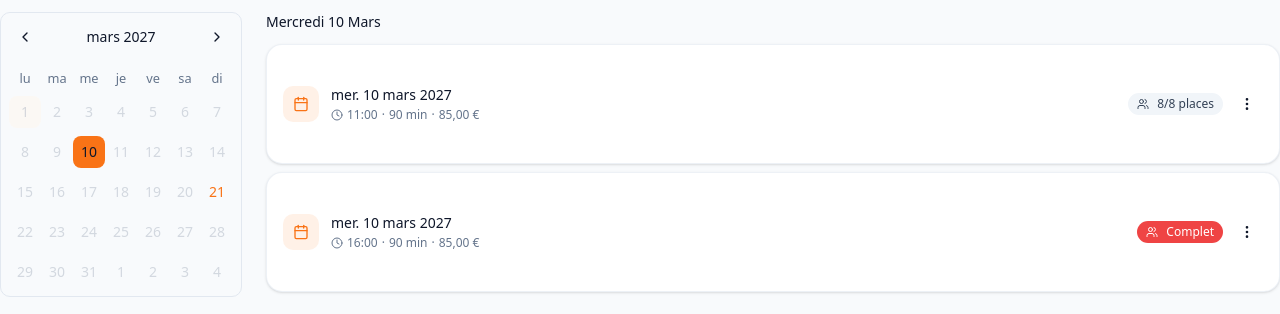
Test case: SlotCalendar › affiche les créneaux du jour choisi
What coordinates should you click on to do the following:
click the button named "21 mars"
I would click on:
 (217, 192)
Its box is [201, 176, 233, 208].
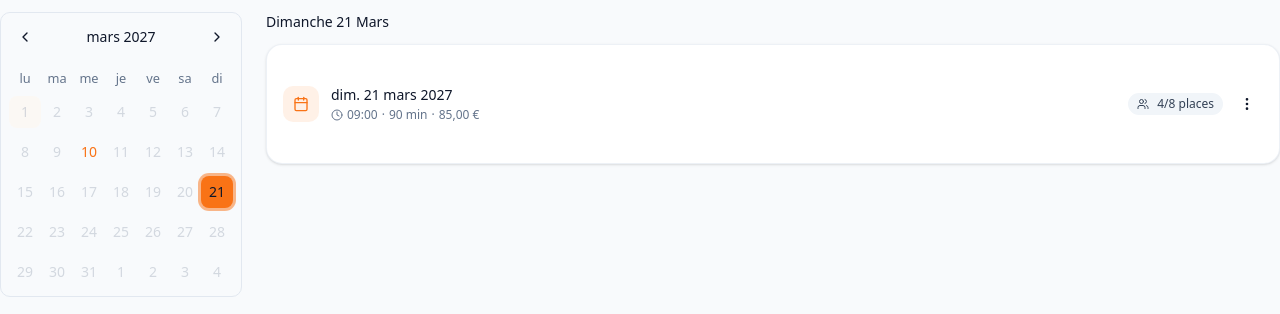
Result: the text "dimanche 21 mars" is shown at [266, 12, 389, 31]
